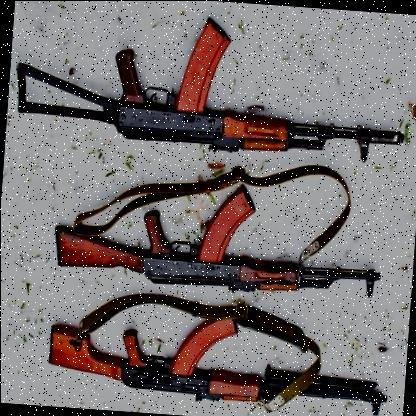rifle: (13, 6, 416, 177), (43, 163, 387, 312), (45, 285, 397, 416)
